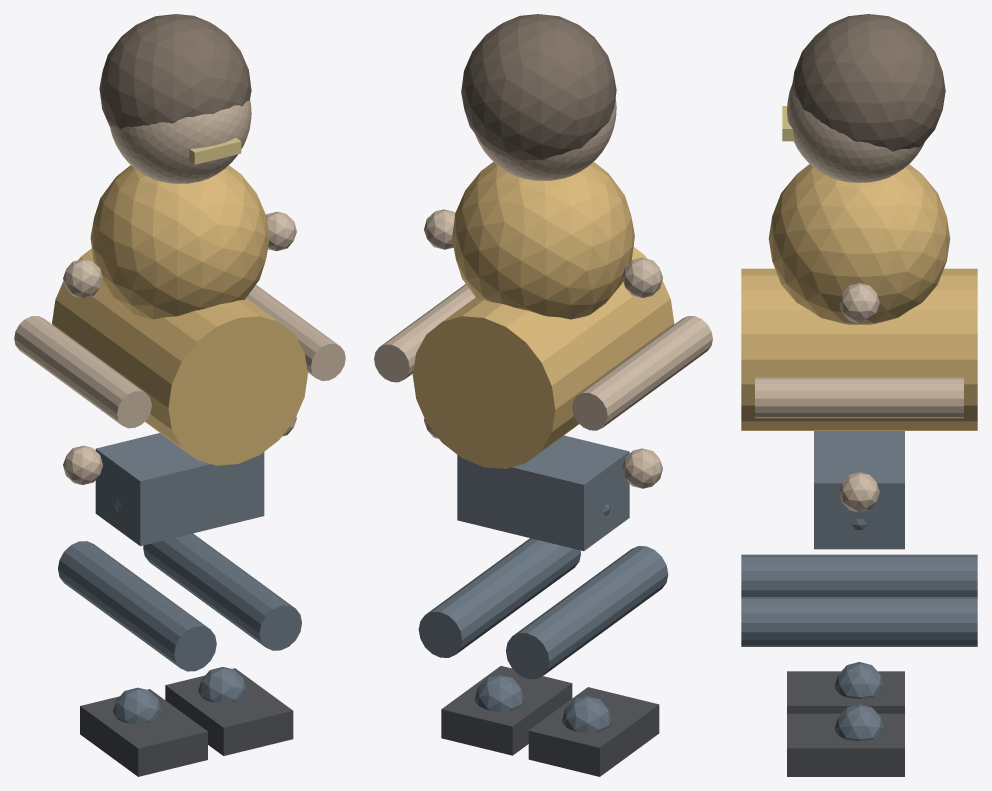
The model's file is avatar_player.glb.
3 renders of one model, left to right at view 1: azimuth 30°, elevation 25°; view 2: azimuth 150°, elevation 25°; view 3: azimuth 270°, elevation 25°, orthographic. The views are drawn at different scales.
Visible parts, largest first — view 1: world; view 2: world; view 3: world.
Part boxes in pixels (x1,y1,x2,y2): world: (14, 14, 345, 776); world: (374, 14, 712, 776); world: (741, 14, 977, 776).
Bounding box in the file's own units: 0.59 × 1.75 × 0.52.
